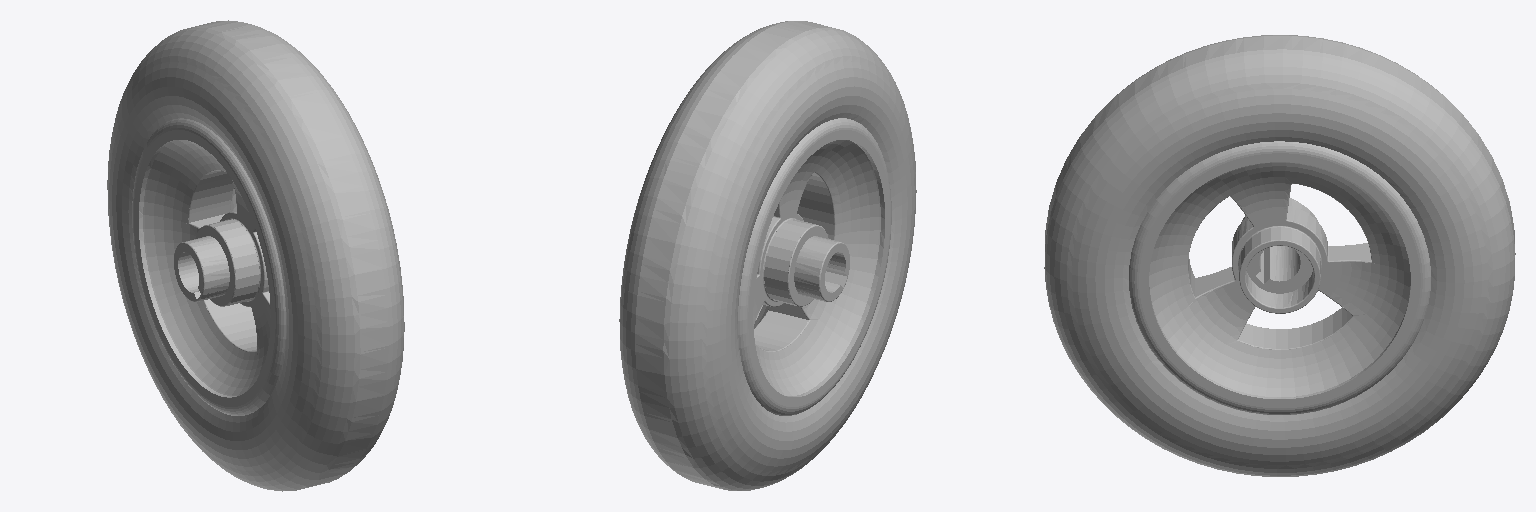
The robot description file, URDF, robot "sendbooster_amr":
<robot
  name="sendbooster_amr">
  <link
    name="base_link">
    <inertial>
      <origin
        xyz="-0.00591137033702896 0.124738363969582 0.122792068633473"
        rpy="0 0 0" />
      <mass
        value="14.2039932900445" />
      <inertia
        ixx="0.126970359206886"
        ixy="-1.44058897972358E-05"
        ixz="3.06481811968199E-06"
        iyy="0.191380250382105"
        iyz="-3.58356058956857E-05"
        izz="0.291678247232402" />
    </inertial>
    <visual>
      <origin
        xyz="0 0 0"
        rpy="0 0 0" />
      <geometry>
        <mesh
          filename="package://sendbooster_amr/meshes/base_link.STL" />
      </geometry>
      <material
        name="">
        <color
          rgba="0.752941176470588 0.752941176470588 0.752941176470588 1" />
      </material>
    </visual>
    <collision>
      <origin
        xyz="0 0 0"
        rpy="0 0 0" />
      <geometry>
        <mesh
          filename="package://sendbooster_amr/meshes/base_link.STL" />
      </geometry>
    </collision>
  </link>
  <link
    name="left_wheel">
    <inertial>
      <origin
        xyz="1.62295621941588E-06 -6.63779840731626E-06 0.0315072954675824"
        rpy="0 0 0" />
      <mass
        value="1.0510392293134" />
      <inertia
        ixx="0.0027577202396378"
        ixy="1.98398252861109E-09"
        ixz="-3.3971722585081E-10"
        iyy="0.00275782694016087"
        iyz="-7.0517109702979E-08"
        izz="0.00521469816808539" />
    </inertial>
    <visual>
      <origin
        xyz="0 0 0"
        rpy="0 0 0" />
      <geometry>
        <mesh
          filename="package://sendbooster_amr/meshes/left_wheel.STL" />
      </geometry>
      <material
        name="">
        <color
          rgba="0.752941176470588 0.752941176470588 0.752941176470588 1" />
      </material>
    </visual>
    <collision>
      <origin
        xyz="0 0 0"
        rpy="0 0 0" />
      <geometry>
        <mesh
          filename="package://sendbooster_amr/meshes/left_wheel.STL" />
      </geometry>
    </collision>
  </link>
  <joint
    name="left_wheel_joint"
    type="continuous">
    <origin
      xyz="0.31166 0.285 0.015"
      rpy="-1.5708 -0.82186 -1.5708" />
    <parent
      link="base_link" />
    <child
      link="left_wheel" />
    <axis
      xyz="0 0 1" />
  </joint>
  <link
    name="right_wheel">
    <inertial>
      <origin
        xyz="1.62281509219486E-06 -6.63853994181673E-06 0.0315072956645379"
        rpy="0 0 0" />
      <mass
        value="1.05103912477071" />
      <inertia
        ixx="0.00275772024623309"
        ixy="2.04542118268855E-09"
        ixz="-3.39121797359472E-10"
        iyy="0.00275782691111439"
        iyz="-7.0517957676402E-08"
        izz="0.00521469815221501" />
    </inertial>
    <visual>
      <origin
        xyz="0 0 0"
        rpy="0 0 0" />
      <geometry>
        <mesh
          filename="package://sendbooster_amr/meshes/right_wheel.STL" />
      </geometry>
      <material
        name="">
        <color
          rgba="0.752941176470588 0.752941176470588 0.752941176470588 1" />
      </material>
    </visual>
    <collision>
      <origin
        xyz="0 0 0"
        rpy="0 0 0" />
      <geometry>
        <mesh
         filename="package://sendbooster_amr/meshes/right_wheel.STL" />
      </geometry>
    </collision>
  </link>
  <joint
    name="right_wheel_joint"
    type="continuous">
    <origin
      xyz="-0.31166 0.285 0.015"
      rpy="-1.5708 1.2912 1.5708" />
    <parent
      link="base_link" />
    <child
      link="right_wheel" />
    <axis
      xyz="0 0 1" />
  </joint>
</robot>

--- What the picture shows (computed from the rendered views, not written in the file) ---
3 views of the same robot in one strip: view 1: azimuth 30°, elevation 25°; view 2: azimuth 150°, elevation 25°; view 3: azimuth 270°, elevation 25° (orthographic).
Model sendbooster_amr with 3 links and 2 joints (2 continuous), rooted at base_link, posed all joints at 0.
Links seen in each view (by area): view 1: left_wheel; view 2: left_wheel; view 3: left_wheel.
Boxes of the visible links, x1,y1,x2,y2 form: left_wheel: [107, 20, 404, 491]; left_wheel: [619, 21, 916, 490]; left_wheel: [1044, 35, 1515, 476].
Bounding box of the posed robot: 55.5 × 192 × 192 m (x, y, z).
Meshes: 3 distinct files referenced, 1 mesh visuals loaded (1 binary STL); not drawn: 2 (reference not matched to a file when rendering).